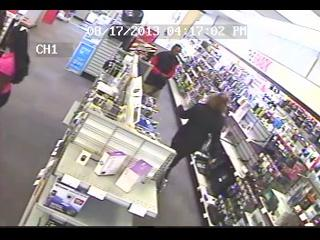Normal: (158, 92, 230, 190), (0, 25, 31, 108), (142, 44, 182, 98)
